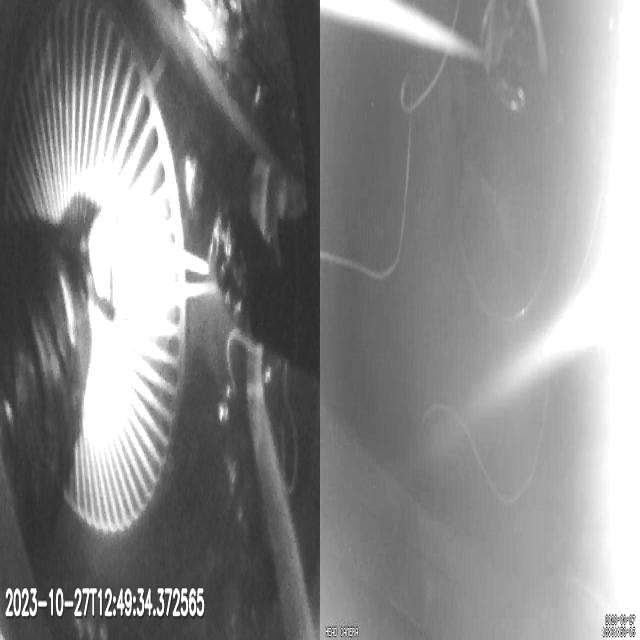head: (95, 208, 167, 328)
